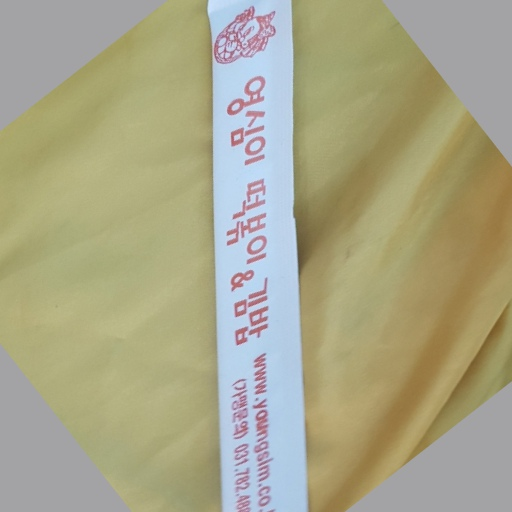Paper_2: (201, 1, 318, 512)
